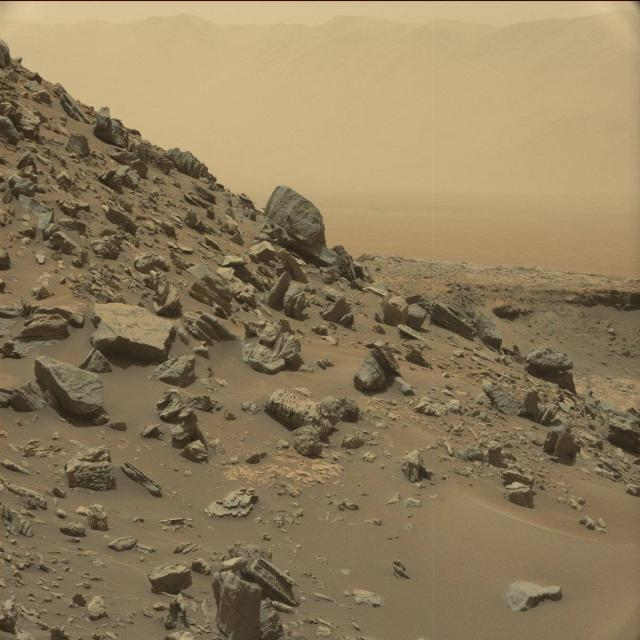rocks: (0, 41, 602, 503), (0, 471, 112, 639), (142, 540, 304, 639), (45, 440, 163, 568), (0, 438, 64, 476), (503, 581, 562, 611), (203, 487, 258, 519), (106, 535, 156, 562), (0, 381, 46, 410)
stone: (265, 185, 325, 245)
white-sand: (0, 348, 640, 639)
